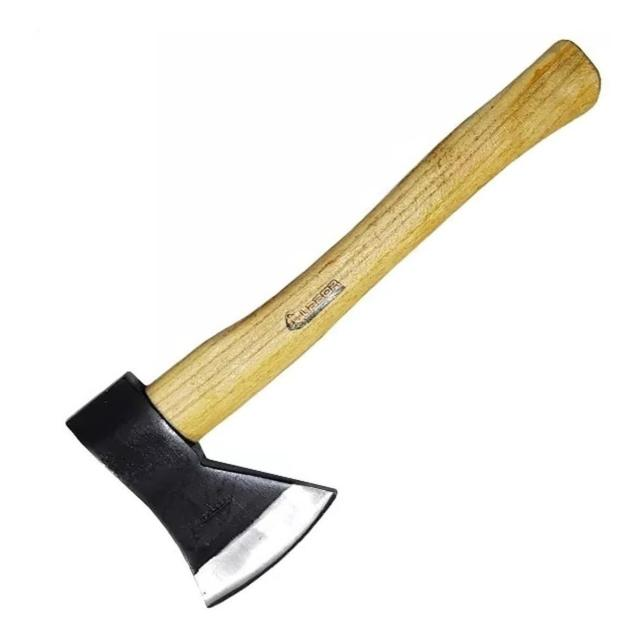Kapak: (61, 32, 612, 615)
